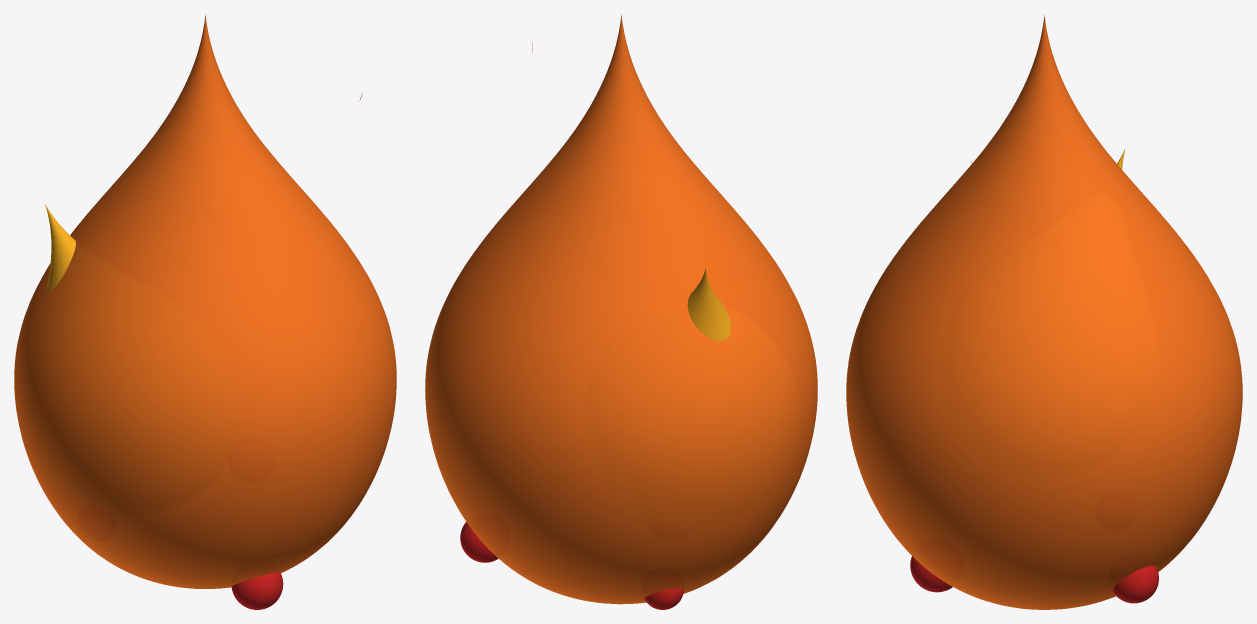
The model's file is ates.glb.
The picture shows the model from 3 angles, left to right: view 1: azimuth 30°, elevation 25°; view 2: azimuth 150°, elevation 25°; view 3: azimuth 270°, elevation 25°; orthographic projection. The views are drawn at different scales.
Size of the model in its own units: 0.0222 by 0.0355 by 0.0222.
